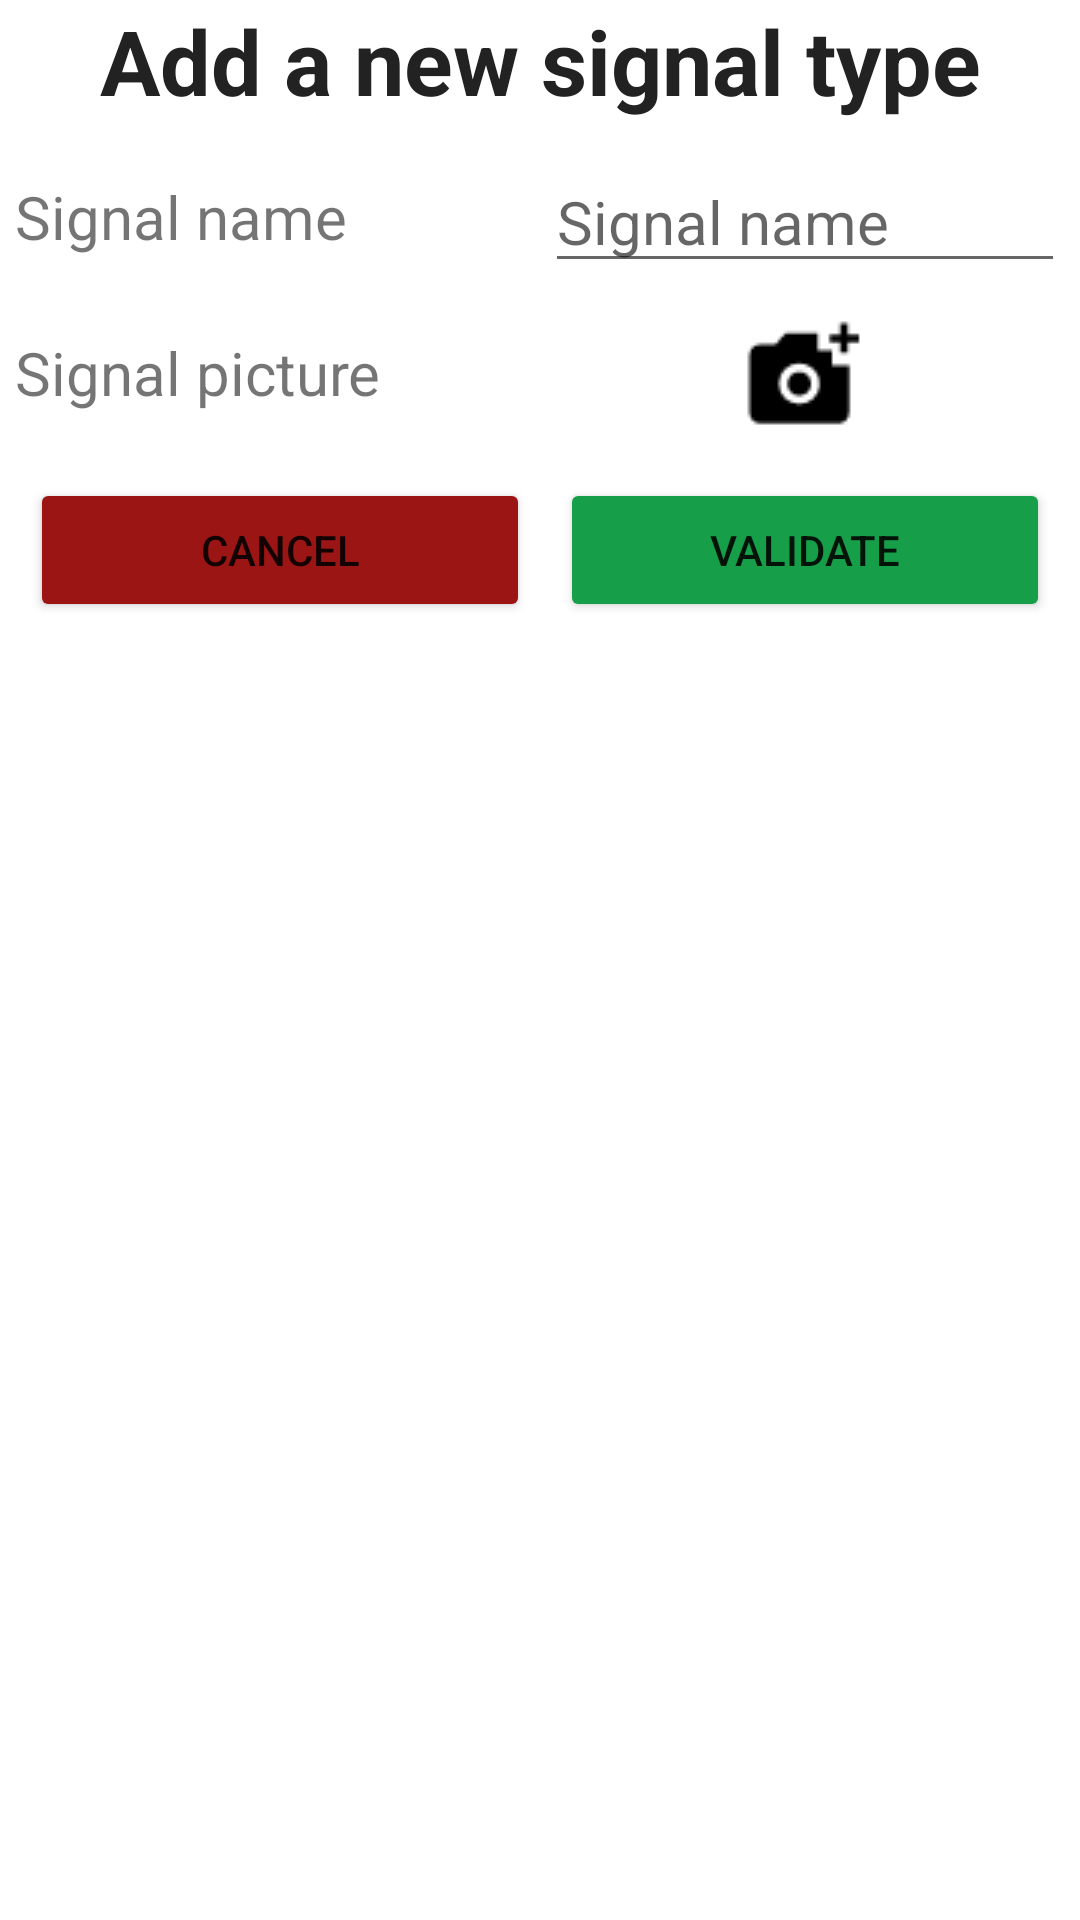

Icons on this 1080px x 1920px Android screen, each with the point to tap as (x=x, y=y):
add photo: (x=803, y=373)
